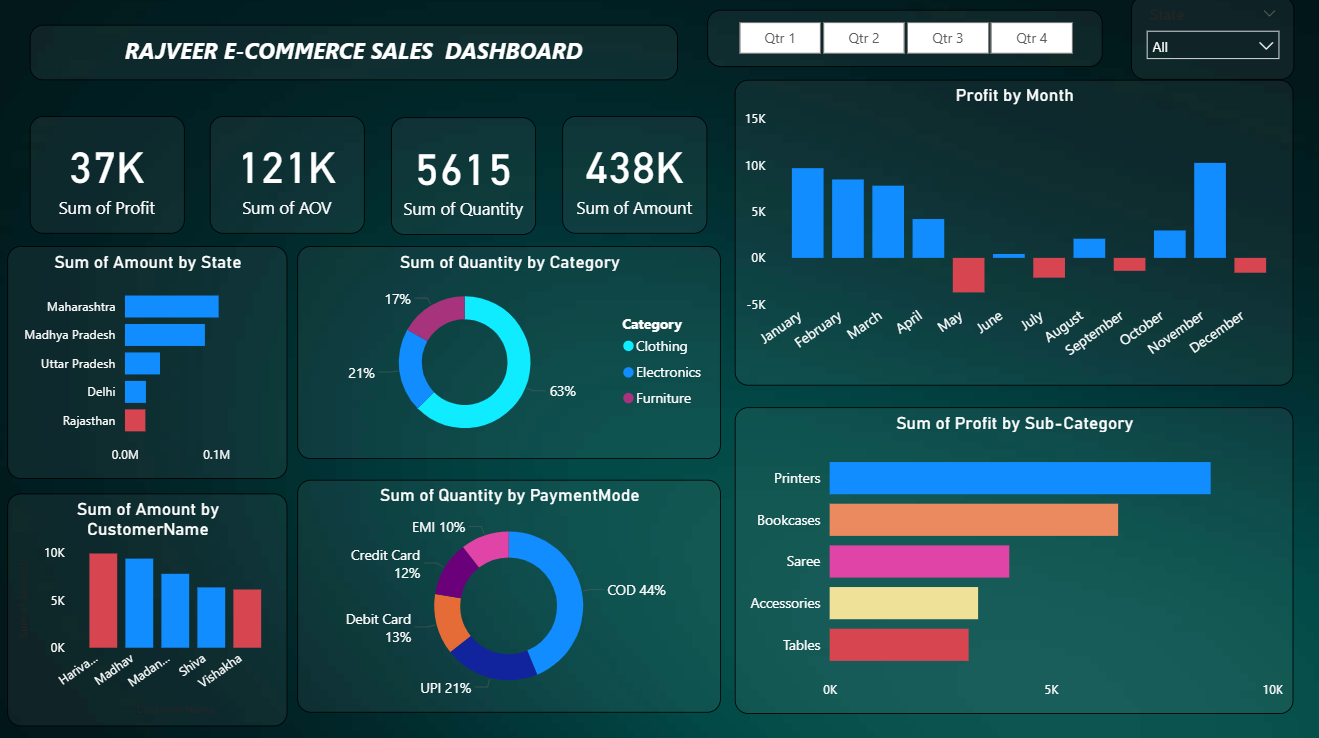

Layout of this report page (visuals, bound fields, positions):
{"tool":"powerbi","page":{"name":"Page 1","canvas":[1280,720],"ordinal":0},"visuals":[{"type":"columnChart","title":" Profit by Month","fields":{"Y":["Sum(Details.Profit)"],"Category":["Orders.Order Date.Variation.Date Hierarchy.Month"]},"box":[713.6,81,539.3,295],"z":0},{"type":"barChart","fields":{"Category":["Details.Sub-Category"],"Y":["Sum(Details.Profit)"]},"box":[713.6,396.6,539.3,296.4],"z":1000},{"type":"donutChart","fields":{"Category":["Details.Category"],"Y":["Sum(Details.Quantity)"]},"box":[290.9,241.5,408.9,205.8],"z":2000},{"type":"donutChart","fields":{"Category":["Details.PaymentMode"],"Y":["Sum(Details.Quantity)"]},"box":[290.9,466.6,408.9,225],"z":3000},{"type":"card","fields":{"Values":["Sum(Details.Amount)"]},"box":[546.1,115.3,140,113.9],"z":4000},{"type":"card","fields":{"Values":["Sum(Details.Quantity)"]},"box":[381.5,116.6,140,113.9],"z":5000},{"type":"card","fields":{"Values":["Sum(Details.AOV)"]},"box":[205.8,115.3,149.6,113.9],"z":6000},{"type":"card","fields":{"Values":["Sum(Details.Profit)"]},"box":[32.9,115.3,149.6,113.9],"z":7000},{"type":"barChart","fields":{"Category":["Orders.State"],"Y":["Sum(Details.Amount)"]},"box":[11,241.5,270.3,225],"z":8000},{"type":"columnChart","fields":{"Category":["Orders.CustomerName"],"Y":["Sum(Details.Amount)"]},"box":[11,480.3,270.3,225],"z":9000},{"type":"textbox","box":[32.9,27.4,625.7,53.5],"z":10000},{"type":"slicer","fields":{"Values":["Orders.Order Date.Variation.Date Hierarchy.Quarter"]},"box":[686.1,13.7,381.5,54.9],"z":11000},{"type":"slicer","fields":{"Values":["Orders.State"]},"box":[1095,0,157.8,81],"z":12000}]}

Visuals, with their boxes in screenshot pixels (x1, y1, x2, y2), scaled from the page's 1280x720 canvas onto the 1319x738 screenshot:
" Profit by Month" columnChart: <bbox>735, 83, 1291, 385</bbox>
barChart - Details.Sub-Category x Sum(Details.Profit): <bbox>735, 407, 1291, 710</bbox>
donutChart - Details.Category x Sum(Details.Quantity): <bbox>300, 248, 721, 458</bbox>
donutChart - Details.PaymentMode x Sum(Details.Quantity): <bbox>300, 478, 721, 709</bbox>
card - Sum(Details.Amount): <bbox>563, 118, 707, 235</bbox>
card - Sum(Details.Quantity): <bbox>393, 120, 537, 236</bbox>
card - Sum(Details.AOV): <bbox>212, 118, 366, 235</bbox>
card - Sum(Details.Profit): <bbox>34, 118, 188, 235</bbox>
barChart - Orders.State x Sum(Details.Amount): <bbox>11, 248, 290, 478</bbox>
columnChart - Orders.CustomerName x Sum(Details.Amount): <bbox>11, 492, 290, 723</bbox>
textbox: <bbox>34, 28, 679, 83</bbox>
slicer - Orders.Order Date.Variation.Date Hierarchy.Quarter: <bbox>707, 14, 1100, 70</bbox>
slicer - Orders.State: <bbox>1128, 0, 1291, 83</bbox>
